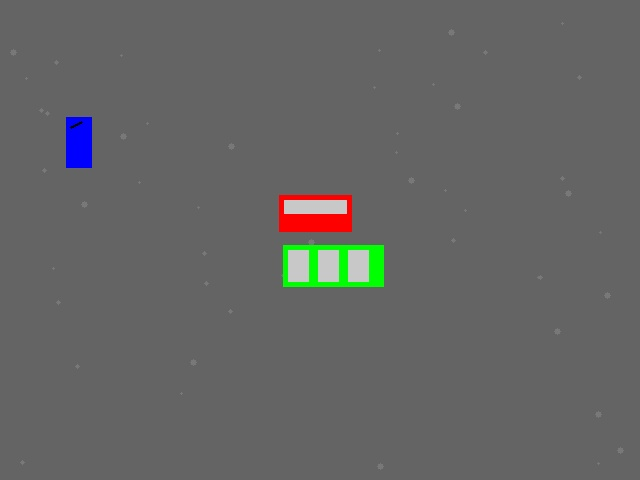bus: (283, 245, 383, 286)
car: (279, 195, 351, 231)
motorcycle: (66, 117, 91, 167)
